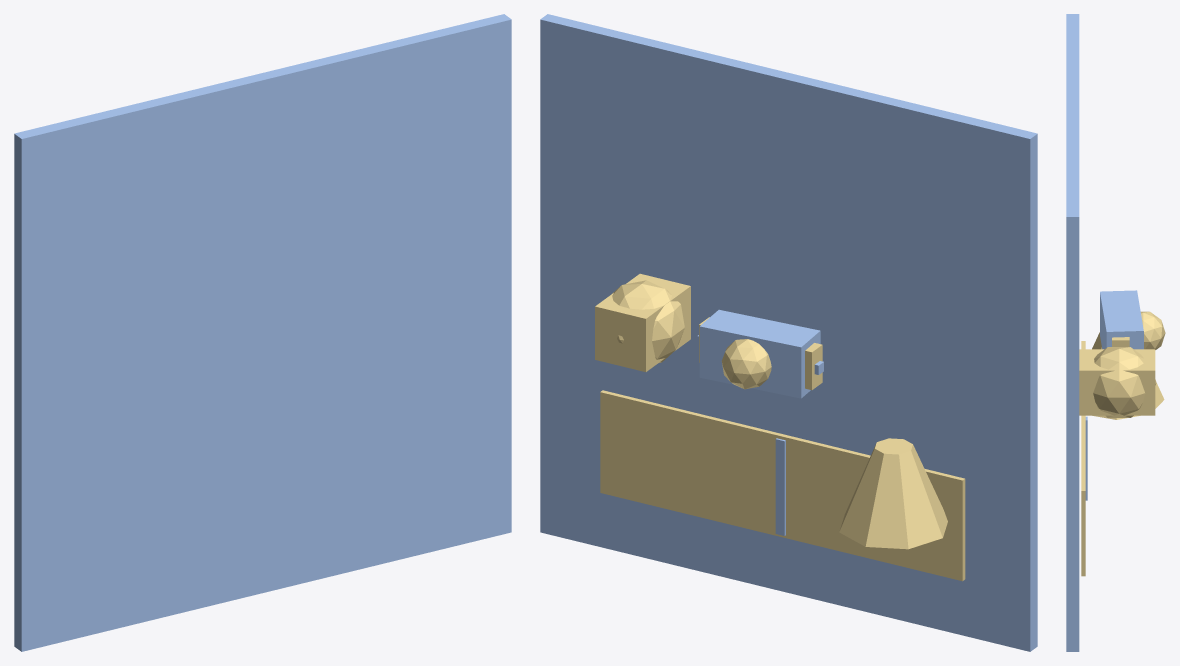
Rendered from tunnel-runner-kit.glb.
The picture shows the model from 3 angles, left to right: view 1: azimuth 30°, elevation 25°; view 2: azimuth 150°, elevation 25°; view 3: azimuth 270°, elevation 25°; orthographic projection. The views are drawn at different scales.
Visible parts, largest first — view 1: ENVIRONMENT_GROUND; view 2: ENVIRONMENT_GROUND, PROFILE_ENVIRONMENT_DETAIL, ENVIRONMENT_LANDMARK, PLAYER_BODY, PROFILE_OBSTACLE_DETAIL, OBSTACLE, PLAYER_CORE, PROFILE_ENVIRONMENT_MARKING, PROFILE_PLAYER_DETAIL; view 3: ENVIRONMENT_GROUND, OBSTACLE, PROFILE_OBSTACLE_DETAIL, PLAYER_BODY, PROFILE_ENVIRONMENT_DETAIL, PLAYER_CORE, ENVIRONMENT_LANDMARK, PROFILE_ENVIRONMENT_MARKING, PROFILE_PLAYER_DETAIL.
Part boxes in pixels (<box>): ENVIRONMENT_GROUND: <box>14,14,511,651</box>; ENVIRONMENT_GROUND: <box>540,14,1037,651</box>; PROFILE_ENVIRONMENT_DETAIL: <box>600,390,965,581</box>; ENVIRONMENT_LANDMARK: <box>839,438,947,549</box>; PLAYER_BODY: <box>699,309,820,398</box>; PROFILE_OBSTACLE_DETAIL: <box>595,273,690,371</box>; OBSTACLE: <box>612,280,684,363</box>; PLAYER_CORE: <box>721,339,771,389</box>; PROFILE_ENVIRONMENT_MARKING: <box>775,438,785,535</box>; PROFILE_PLAYER_DETAIL: <box>699,317,822,390</box>; ENVIRONMENT_GROUND: <box>1066,14,1079,651</box>; OBSTACLE: <box>1093,347,1156,417</box>; PROFILE_OBSTACLE_DETAIL: <box>1079,349,1155,415</box>; PLAYER_BODY: <box>1100,290,1143,349</box>; PROFILE_ENVIRONMENT_DETAIL: <box>1081,341,1085,576</box>; PLAYER_CORE: <box>1140,311,1165,349</box>; ENVIRONMENT_LANDMARK: <box>1092,332,1164,419</box>; PROFILE_ENVIRONMENT_MARKING: <box>1085,416,1087,500</box>; PROFILE_PLAYER_DETAIL: <box>1112,337,1129,346</box>.
Size of what is drawn, in the model's own units: 9 by 9 by 1.86.
